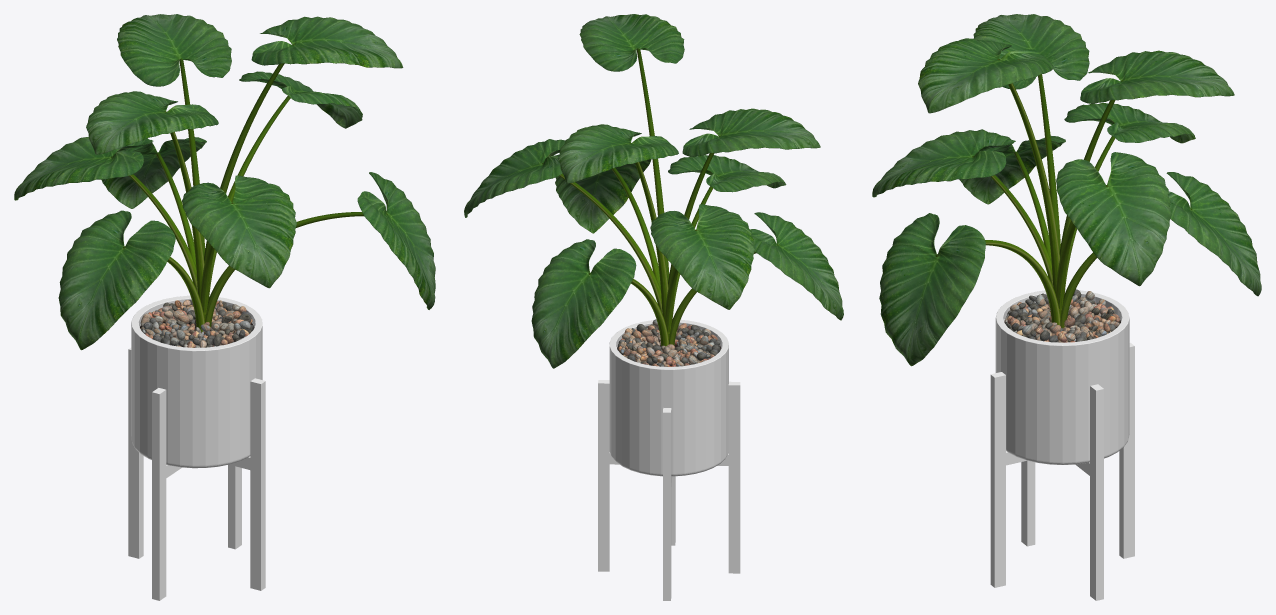
Rendered from elephantplant.glb.
3 renders of one model, left to right at view 1: azimuth 30°, elevation 25°; view 2: azimuth 150°, elevation 25°; view 3: azimuth 270°, elevation 25°, orthographic. The views are drawn at different scales.
Parts seen in each view (by area): view 1: Plant.001, Pot, legs, Trunk, Pebbles; view 2: Plant.001, Pot, legs, Trunk, Pebbles; view 3: Plant.001, Pot, legs, Trunk, Pebbles.
Boxes of the visible parts, bbox=[...] form: Plant.001: bbox=[14, 14, 435, 350]; Pot: bbox=[131, 295, 262, 468]; legs: bbox=[128, 347, 265, 600]; Trunk: bbox=[110, 44, 387, 332]; Pebbles: bbox=[140, 300, 253, 347]; Plant.001: bbox=[464, 14, 843, 368]; Pot: bbox=[609, 319, 728, 476]; legs: bbox=[598, 380, 740, 600]; Trunk: bbox=[542, 48, 778, 346]; Pebbles: bbox=[617, 319, 720, 366]; Plant.001: bbox=[872, 14, 1261, 366]; Pot: bbox=[995, 289, 1129, 464]; legs: bbox=[990, 342, 1134, 600]; Trunk: bbox=[936, 59, 1192, 328]; Pebbles: bbox=[1005, 289, 1119, 342].
Size of the model in its own units: 0.9282 by 1.41 by 0.8945.
8 materials, 7 textured.
